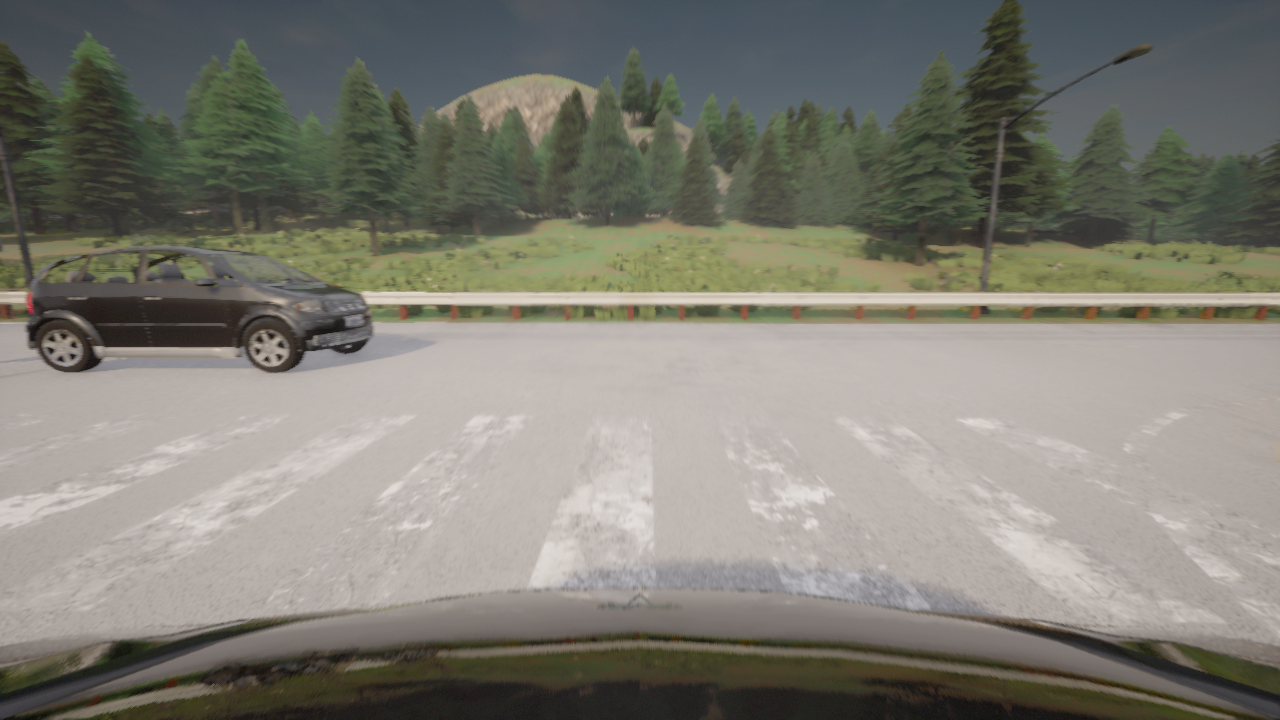cyclist: (0, 588, 1279, 719), (26, 246, 372, 372)
